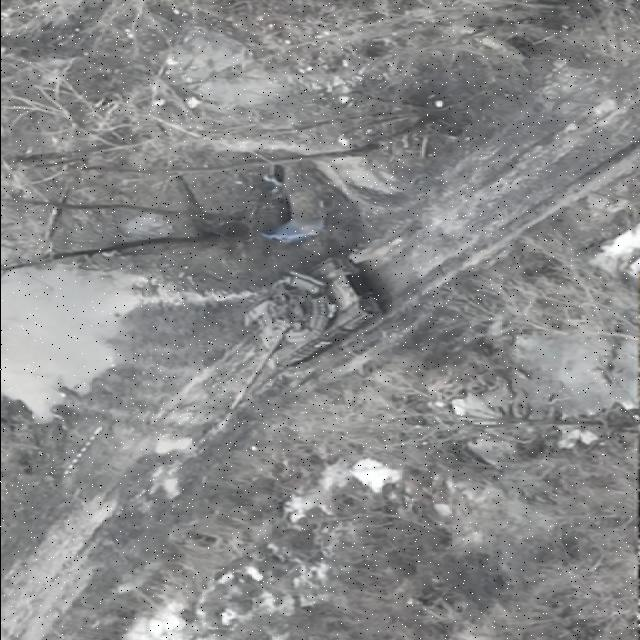TANK: (226, 251, 382, 410)
